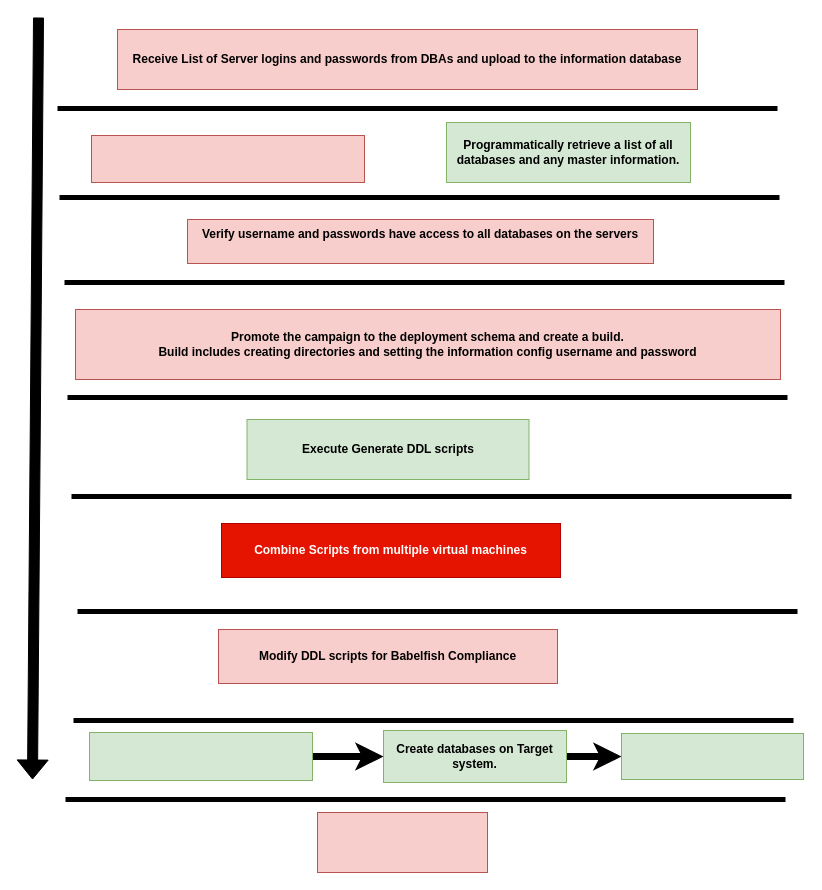
This 822x890 diagram has some shape labels left out. The shapes that lost their labels are listed below. From the top down, each one's centre as x and y in pixels, then its label:
At (227,158): "Ensure no bank id/names are missing".
At (200,756): "Determine Dependencies".
At (712,756): "Deploy to Target Systems".
At (402,842): "Perform validation".
